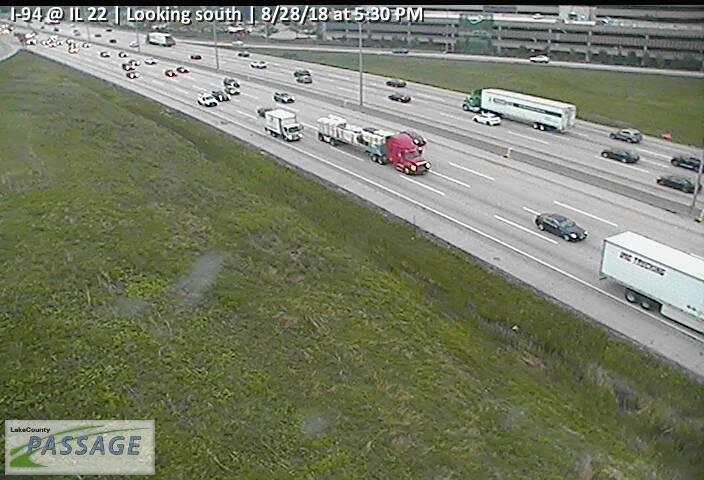Sedan: (534, 212, 587, 241), (656, 174, 702, 193), (600, 146, 640, 163), (609, 127, 642, 143), (672, 156, 704, 171), (469, 112, 500, 126), (197, 93, 218, 106), (275, 91, 295, 104), (294, 70, 312, 84), (212, 89, 231, 102), (389, 92, 410, 102), (386, 78, 407, 87)
Truck: (599, 231, 704, 332), (315, 117, 432, 177), (463, 88, 576, 134), (263, 109, 303, 142), (145, 31, 174, 46)
